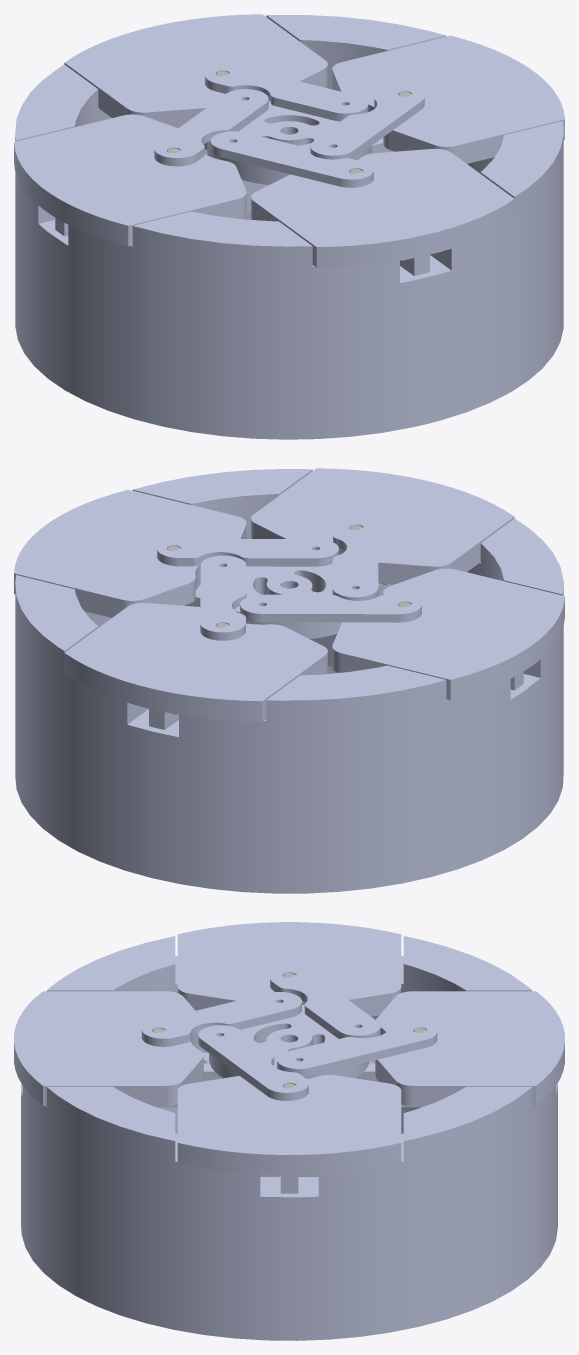
The model's file is Rocket_Airbrake_Assem_glb.glb.
3 renders of one model, top to bottom at view 1: azimuth 30°, elevation 25°; view 2: azimuth 150°, elevation 25°; view 3: azimuth 270°, elevation 25°, orthographic. The views are drawn at different scales.
Visible parts, largest first — view 1: Bottom_Base-1, AirBrakes_Base-1, AirBrake Flap-4, AirBrake Flap-3, AirBrake Flap-1, AirBrake Flap-2, Linkage-3, Linkage-2, Linkage-4, Linkage-1, Spindle-1; view 2: Bottom_Base-1, AirBrakes_Base-1, AirBrake Flap-2, AirBrake Flap-3, AirBrake Flap-1, AirBrake Flap-4, Linkage-4, Linkage-1, Linkage-2, Linkage-3, Spindle-1; view 3: Bottom_Base-1, AirBrakes_Base-1, AirBrake Flap-1, AirBrake Flap-4, AirBrake Flap-2, AirBrake Flap-3, Linkage-2, Linkage-3, Linkage-1, Linkage-4, Spindle-1.
Part boxes in pixels (box(x1,y1,x2,y2)): Bottom_Base-1: box(15, 195, 563, 439); AirBrakes_Base-1: box(15, 15, 563, 306); AirBrake Flap-4: box(251, 148, 514, 267); AirBrake Flap-3: box(14, 114, 246, 246); AirBrake Flap-1: box(332, 35, 564, 163); AirBrake Flap-2: box(64, 14, 327, 128); Linkage-3: box(210, 131, 373, 187); Linkage-2: box(205, 65, 368, 121); Linkage-4: box(154, 89, 268, 166); Linkage-1: box(310, 86, 424, 159); Spindle-1: box(207, 100, 371, 184); Bottom_Base-1: box(15, 643, 563, 893); AirBrakes_Base-1: box(15, 469, 563, 760); AirBrake Flap-2: box(64, 603, 327, 721); AirBrake Flap-3: box(332, 568, 564, 700); AirBrake Flap-1: box(14, 489, 246, 617); AirBrake Flap-4: box(251, 468, 514, 585); Linkage-4: box(240, 594, 421, 622); Linkage-1: box(157, 538, 338, 566); Linkage-2: box(200, 555, 246, 640); Linkage-3: box(332, 520, 378, 600); Spindle-1: box(234, 563, 341, 638); Bottom_Base-1: box(21, 1098, 557, 1340); AirBrakes_Base-1: box(21, 936, 557, 1210); AirBrake Flap-1: box(177, 1074, 401, 1176); AirBrake Flap-4: box(14, 991, 203, 1105); AirBrake Flap-2: box(375, 991, 564, 1105); AirBrake Flap-3: box(177, 922, 401, 1016); Linkage-2: box(277, 1022, 437, 1076); Linkage-3: box(141, 992, 301, 1046); Linkage-1: box(198, 1025, 308, 1100); Linkage-4: box(270, 968, 380, 1038); Spindle-1: box(209, 1005, 369, 1078).
Bounding box in the file's own units: 0.1564 × 0.0617 × 0.1564.
